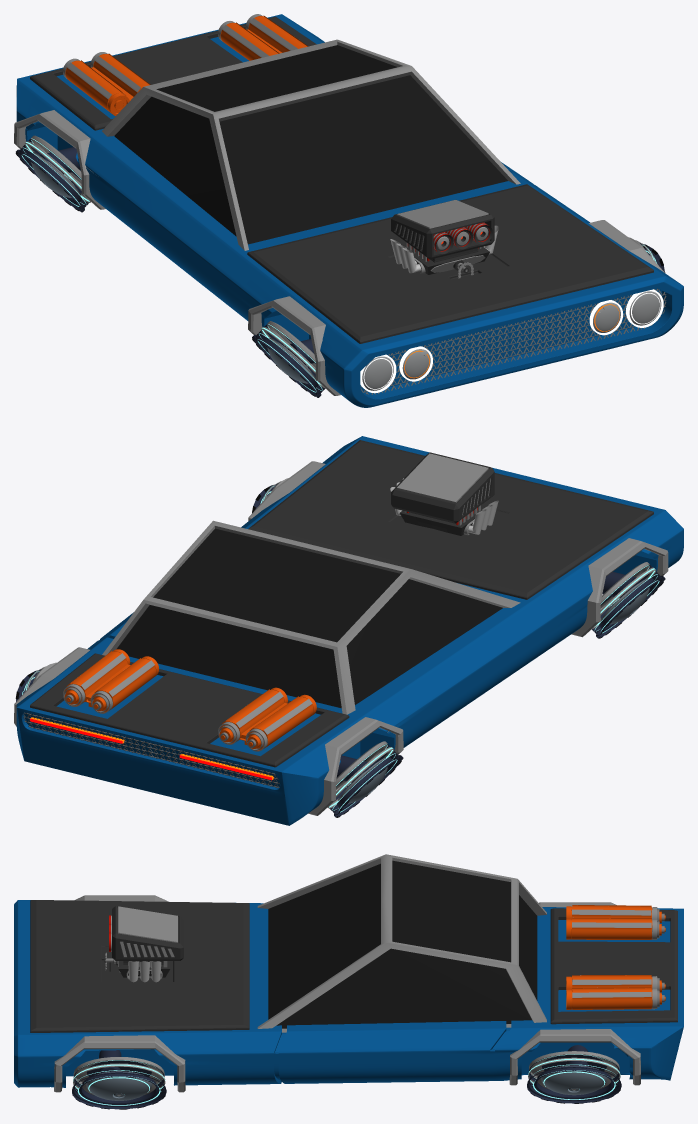
File: kart6.glb
The picture shows the model from 3 angles, top to bottom: view 1: azimuth 30°, elevation 25°; view 2: azimuth 150°, elevation 25°; view 3: azimuth 270°, elevation 25°; orthographic projection. The views are drawn at different scales.
Parts seen in each view (by area): view 1: Cube.002_2, Cube_0, Cube.001_1, Circle.004_9, Circle.003_5, Circle_3, Cube.004_4, Circle.001_7, Circle.005_11; view 2: Cube.002_2, Cube_0, Cube.001_1, Circle_3, Circle.004_9, Cube.004_4, Circle.003_5, Circle.002_8, Circle.005_11; view 3: Cube.002_2, Cube_0, Cube.001_1, Circle.004_9, Circle_3, Cube.004_4, Circle.003_5, Circle.005_11.
Part boxes in pixels (x1,y1,x2,y2): Cube.002_2: [102, 39, 520, 250]; Cube_0: [16, 14, 683, 407]; Cube.001_1: [30, 16, 653, 343]; Circle.004_9: [15, 135, 665, 397]; Circle.003_5: [391, 199, 494, 278]; Circle_3: [63, 14, 308, 115]; Cube.004_4: [14, 110, 665, 395]; Circle.001_7: [360, 288, 666, 394]; Circle.005_11: [390, 225, 498, 273]; Cube.002_2: [102, 520, 520, 714]; Cube_0: [16, 436, 683, 825]; Cube.001_1: [30, 440, 653, 767]; Circle_3: [63, 649, 316, 751]; Circle.004_9: [15, 478, 665, 817]; Cube.004_4: [14, 461, 668, 815]; Circle.003_5: [391, 452, 494, 535]; Circle.002_8: [23, 712, 279, 787]; Circle.005_11: [390, 478, 498, 534]; Cube.002_2: [257, 854, 546, 1032]; Cube_0: [14, 900, 683, 1087]; Cube.001_1: [30, 900, 677, 1032]; Circle.004_9: [72, 1045, 621, 1109]; Circle_3: [566, 905, 665, 1009]; Cube.004_4: [54, 895, 640, 1092]; Circle.003_5: [104, 906, 183, 977]; Circle.005_11: [128, 961, 161, 982].
Bounding box in the file's own units: 3.92 × 1.51 × 6.39.
